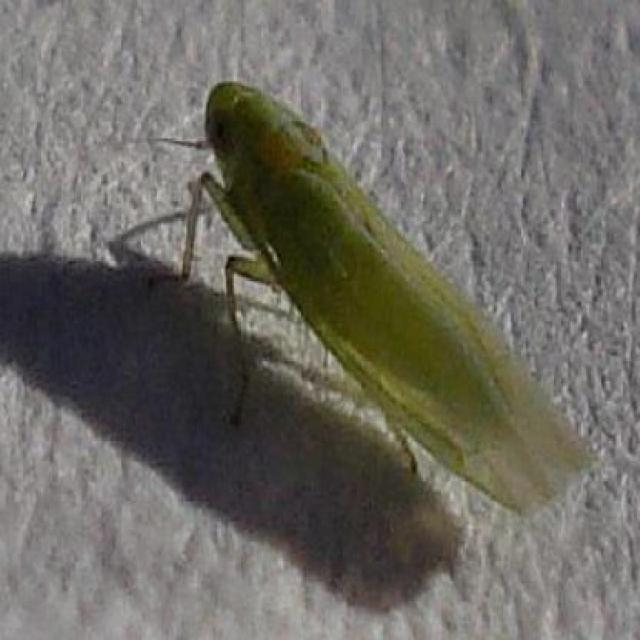green-leafhopper: (183, 77, 595, 517)
